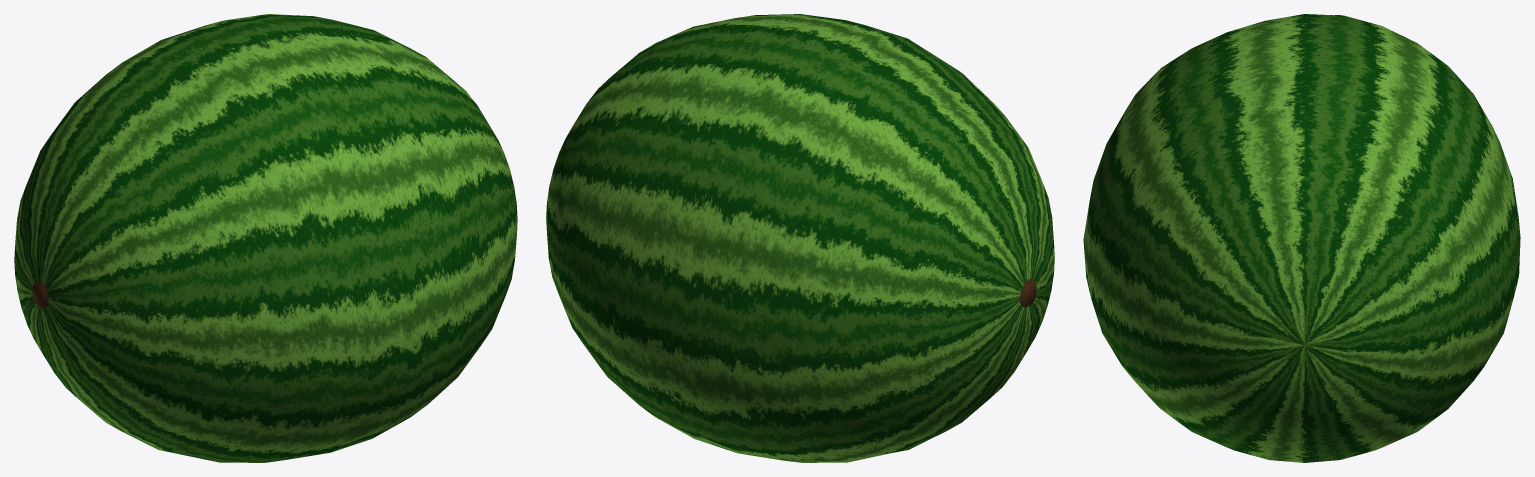
Rendered from watermelon.fbx.
The picture shows the model from 3 angles, left to right: view 1: azimuth 30°, elevation 25°; view 2: azimuth 150°, elevation 25°; view 3: azimuth 270°, elevation 25°; orthographic projection. The views are drawn at different scales.
Parts seen in each view (by area): view 1: Watermelon; view 2: Watermelon; view 3: Watermelon.
Boxes of the visible parts, box(x1,y1,x2,y2) form: Watermelon: box(14, 14, 517, 462); Watermelon: box(546, 14, 1054, 462); Watermelon: box(1083, 14, 1520, 462).
Size of the model in its own units: 234 by 197 by 199.
